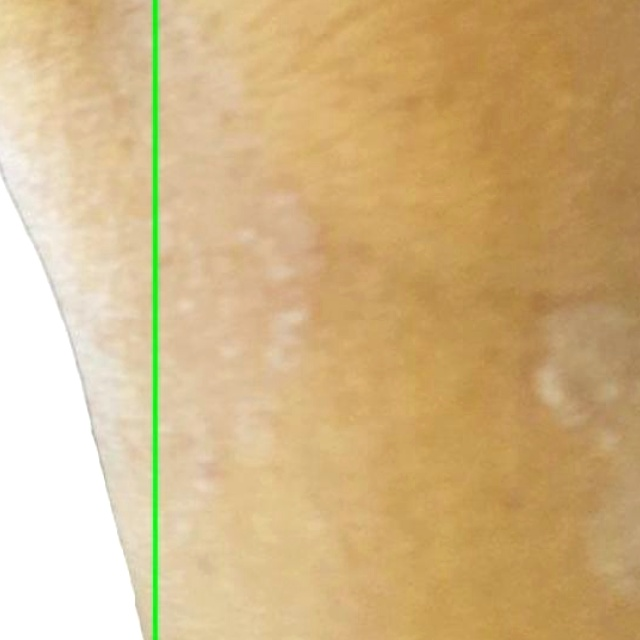Tinea Corporis: (0, 0, 155, 639)
